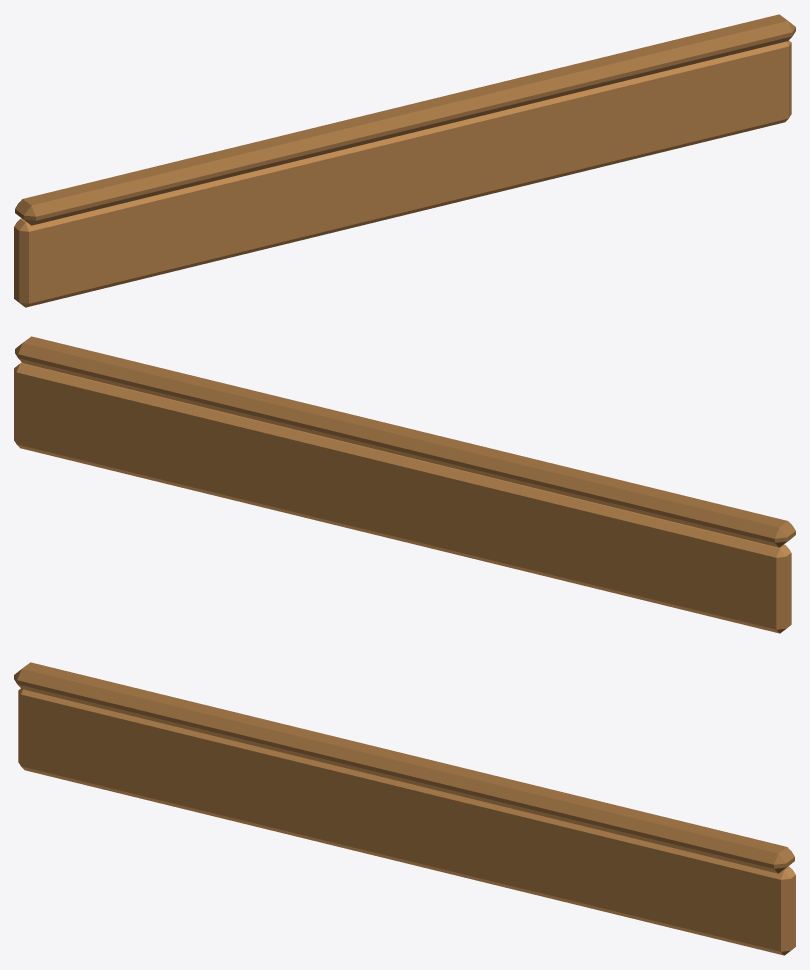
The model's file is skirting_strip_1m.glb.
3 views of the same model, one above another, from view 1: azimuth 30°, elevation 25°; view 2: azimuth 150°, elevation 25°; view 3: azimuth 330°, elevation 25° (orthographic).
Parts seen in each view (by area): view 1: skirting_strip_1m; view 2: skirting_strip_1m; view 3: skirting_strip_1m.
Part boxes in pixels (box(x1,y1,x2,y2)): skirting_strip_1m: box(14, 14, 795, 307); skirting_strip_1m: box(14, 336, 795, 633); skirting_strip_1m: box(14, 662, 795, 955).
Size of the model in its own units: 1 by 0.13 by 0.04.
